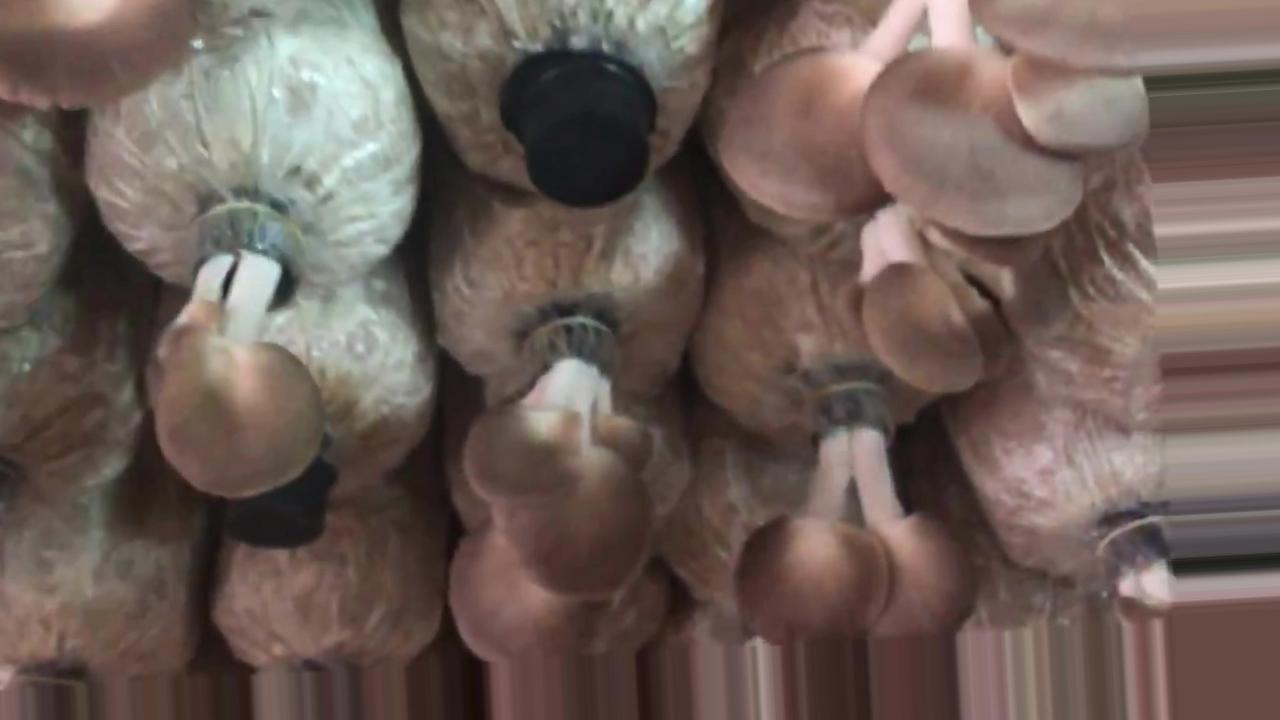nam: (718, 1, 1280, 237), (449, 316, 665, 662), (738, 385, 973, 642), (153, 203, 328, 498), (837, 205, 1040, 390), (1, 2, 196, 111)
